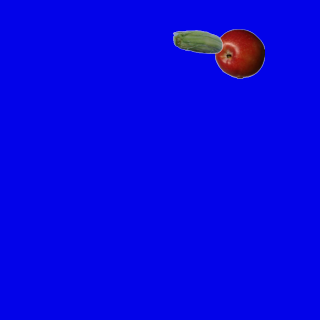Apple Braeburn: (214, 28, 264, 78)
Corn Husk: (172, 18, 222, 68)
